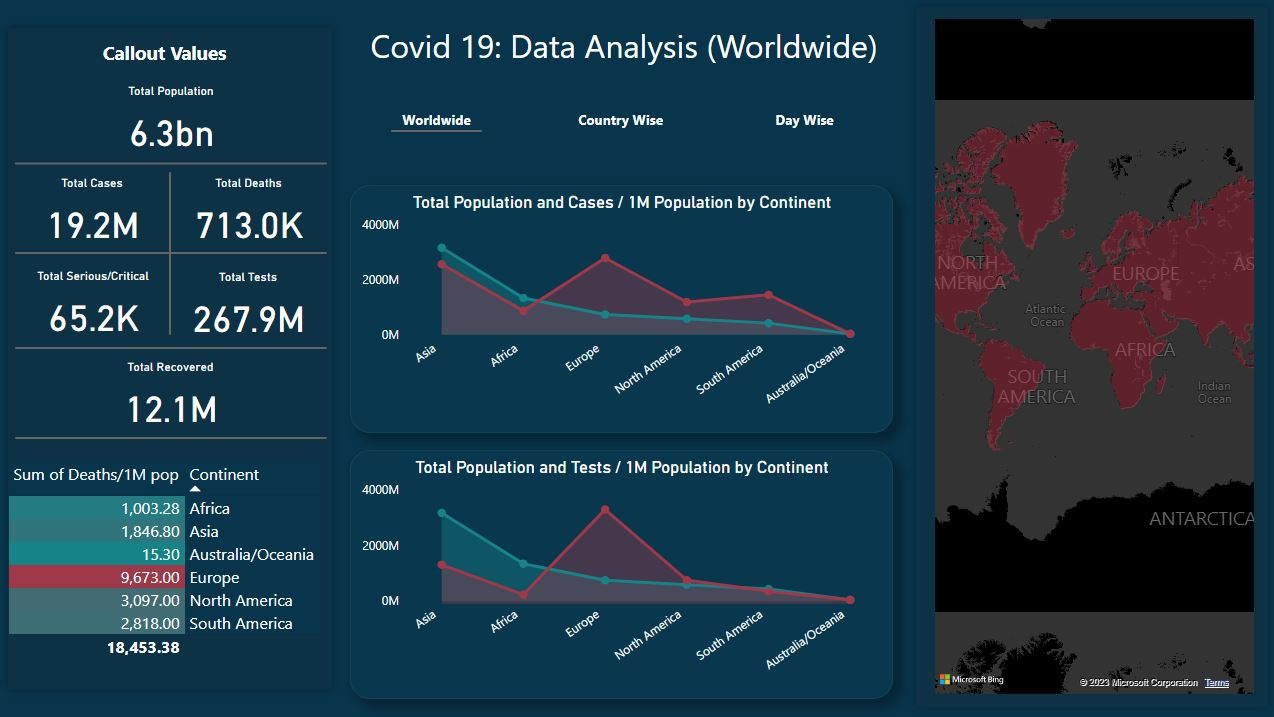

The dashboard page shown, as its layout file describes it:
{"tool":"powerbi","page":{"name":"Worldwide","canvas":[1280,720],"ordinal":0},"visuals":[{"type":"shape","box":[0,21,344,681],"z":0},{"type":"shape","box":[907.8,0,372.2,720.2],"z":1000},{"type":"filledMap","title":" Total Cases by Country","fields":{"Category":["WorldOMeter Data.Continent"]},"box":[932.1,16.5,328.5,685.2],"z":2000},{"type":"card","title":"Total Serious/Critical","fields":{"Values":["Sum(WorldOMeter Data.Serious,Critical)"]},"box":[18.5,272.1,154.5,78.7],"z":3000},{"type":"areaChart","title":"Total Population and Cases / 1M Population by Continent","fields":{"Category":["WorldOMeter Data.Continent"],"Y":["Sum(WorldOMeter Data.Population)"],"Y2":["Sum(WorldOMeter Data.Tot Cases/1M pop)"]},"box":[351.8,187.6,543.3,248.8],"z":4000},{"type":"card","title":"Total Deaths","fields":{"Values":["Sum(WorldOMeter Data.TotalDeaths)"]},"box":[173,178.8,155.5,77.8],"z":5000},{"type":"card","title":"Total Tests","fields":{"Values":["Sum(WorldOMeter Data.TotalTests)"]},"box":[172,273.1,156.5,77.8],"z":6000},{"type":"card","title":"Total Population","fields":{"Values":["Sum(WorldOMeter Data.Population)"]},"box":[18.5,87.5,310,78.7],"z":7000},{"type":"card","title":"Total Cases","fields":{"Values":["Sum(WorldOMeter Data.TotalCases)"]},"box":[17.5,178.8,154.5,78.7],"z":8000},{"type":"card","title":"Total Recovered","fields":{"Values":["Sum(WorldOMeter Data.TotalRecovered)"]},"box":[17.5,362.5,311,78.7],"z":9000},{"type":"textbox","box":[38.9,37.9,256.6,40.8],"z":10000},{"type":"shape","box":[162.3,174.9,19.4,163.3],"z":11000},{"type":"shape","box":[17.5,240.1,311,32.1],"z":12000},{"type":"shape","box":[17.5,153.6,311,25.3],"z":13000},{"type":"shape","box":[17.5,323.6,311,54.4],"z":14000},{"type":"areaChart","title":"Total Population and Tests / 1M Population by Continent","fields":{"Category":["WorldOMeter Data.Continent"],"Y":["Sum(WorldOMeter Data.Population)"],"Y2":["Sum(WorldOMeter Data.Tests/1M pop)"]},"box":[351.8,452.9,543.3,248.8],"z":15000},{"type":"tableEx","title":"Deaths /1M Population by Continent","fields":{"Values":["Sum(WorldOMeter Data.Deaths/1M pop)","WorldOMeter Data.Continent"]},"box":[4.9,459.7,323.6,233.3],"z":16000},{"type":"shape","box":[17.5,414,311,54.4],"z":17000},{"type":"textbox","box":[368.4,21.4,526.8,54.4],"z":18000},{"type":"pageNavigator","box":[352,97,543,50],"z":19000},{"type":"shape","box":[393.4,121.2,90.4,25.5],"z":20000}]}

Visuals, with their boxes in screenshot pixels (x1, y1, x2, y2), scaled from the page's 1280x720 canvas onto the 1274x717 screenshot:
shape: (left=0, top=21, right=342, bottom=699)
shape: (left=904, top=0, right=1273, bottom=716)
" Total Cases by Country" filledMap: (left=928, top=16, right=1255, bottom=699)
"Total Serious/Critical" card: (left=18, top=271, right=172, bottom=349)
"Total Population and Cases / 1M Population by Continent" areaChart: (left=350, top=187, right=891, bottom=435)
"Total Deaths" card: (left=172, top=178, right=327, bottom=256)
"Total Tests" card: (left=171, top=272, right=327, bottom=349)
"Total Population" card: (left=18, top=87, right=327, bottom=166)
"Total Cases" card: (left=17, top=178, right=171, bottom=256)
"Total Recovered" card: (left=17, top=361, right=327, bottom=439)
textbox: (left=39, top=38, right=294, bottom=78)
shape: (left=162, top=174, right=181, bottom=337)
shape: (left=17, top=239, right=327, bottom=271)
shape: (left=17, top=153, right=327, bottom=178)
shape: (left=17, top=322, right=327, bottom=376)
"Total Population and Tests / 1M Population by Continent" areaChart: (left=350, top=451, right=891, bottom=699)
"Deaths /1M Population by Continent" tableEx: (left=5, top=458, right=327, bottom=690)
shape: (left=17, top=412, right=327, bottom=466)
textbox: (left=367, top=21, right=891, bottom=75)
pageNavigator: (left=350, top=97, right=891, bottom=146)
shape: (left=392, top=121, right=482, bottom=146)
